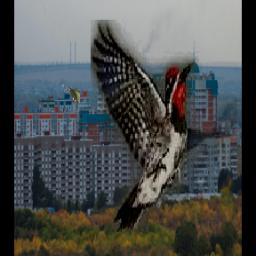Cuckoo: (62, 86, 81, 104)
Woodpecker: (92, 21, 238, 233)
